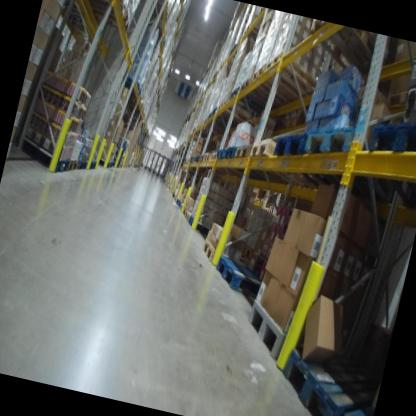pallet: (260, 47, 373, 416), (295, 122, 410, 210), (273, 340, 382, 416), (240, 296, 330, 372), (355, 105, 416, 216), (301, 21, 393, 88), (264, 125, 341, 194), (244, 135, 316, 195), (14, 131, 75, 176), (211, 253, 268, 299), (247, 60, 306, 103), (79, 0, 136, 33), (231, 140, 272, 180), (239, 78, 289, 110), (227, 84, 276, 116), (221, 145, 260, 181), (215, 100, 257, 129), (199, 237, 237, 267), (72, 0, 129, 16), (206, 149, 236, 179), (211, 145, 238, 176), (242, 18, 267, 43), (185, 215, 214, 234), (65, 157, 80, 175), (84, 156, 99, 172), (76, 160, 89, 173), (203, 149, 212, 166), (182, 207, 191, 222), (193, 153, 201, 166), (199, 154, 205, 165), (180, 206, 187, 215)
